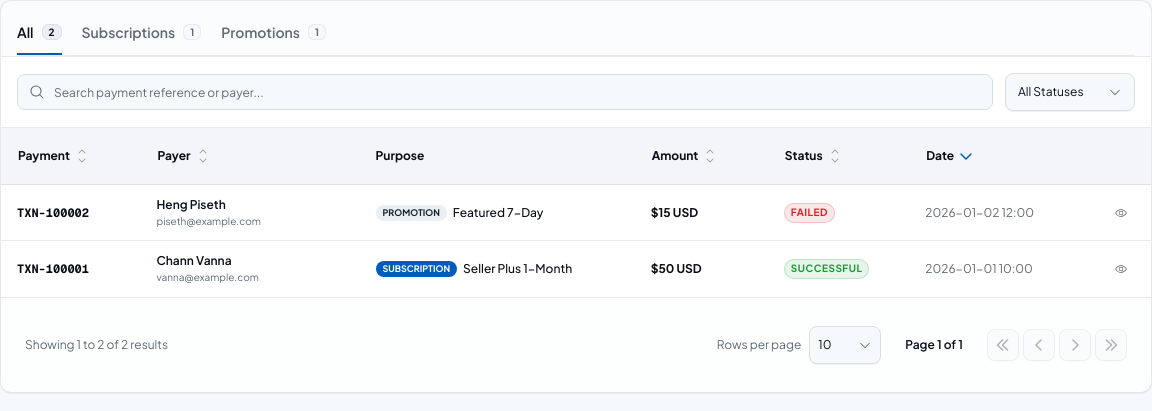
Test: <PaymentTable /> › filters transactions by subscription and promotion tabs
The width and height of the screenshot is (1152, 411).
Click the tab "Promotions 1".
click(274, 33)  # box [221,11,326,55]
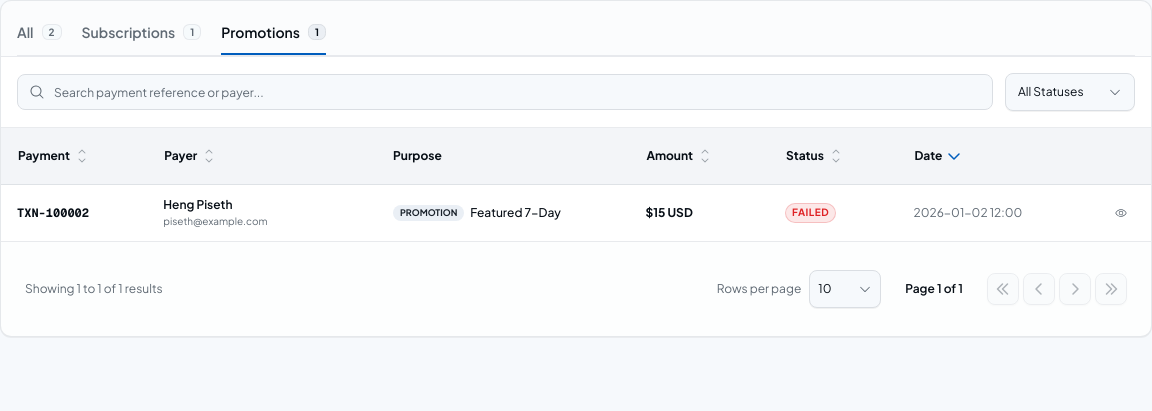
Expected: the link "Heng Piseth" is shown, [163,197,233,212]
Expected: no links "Chann Vanna" are shown
